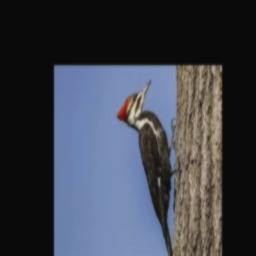Woodpecker: (116, 79, 177, 256)
